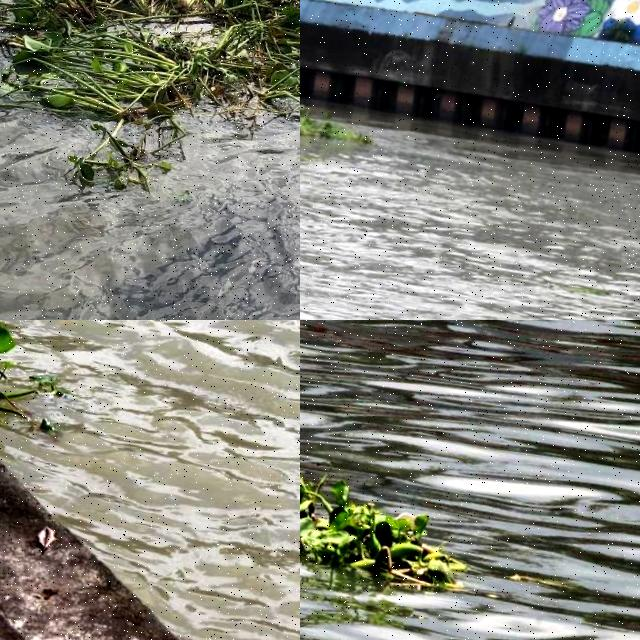water-hyacinth: (1, 1, 301, 195), (301, 473, 479, 593), (1, 321, 94, 433), (301, 65, 386, 150)
